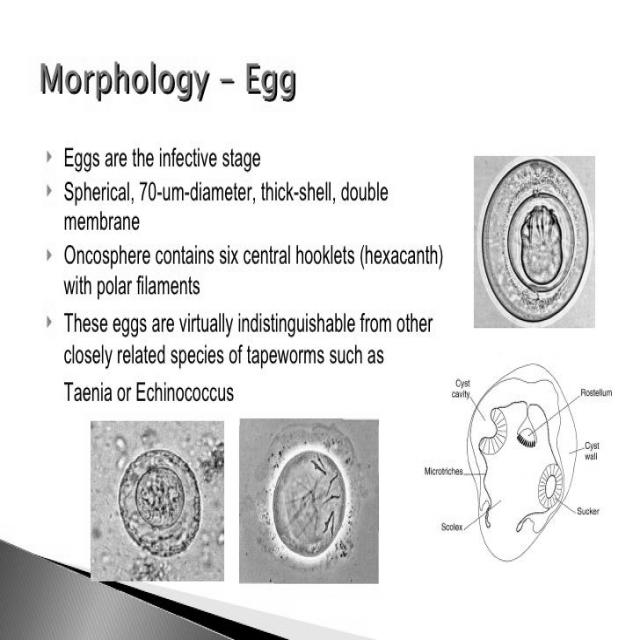Hymenolepis: (461, 156, 596, 330), (115, 445, 204, 560)
